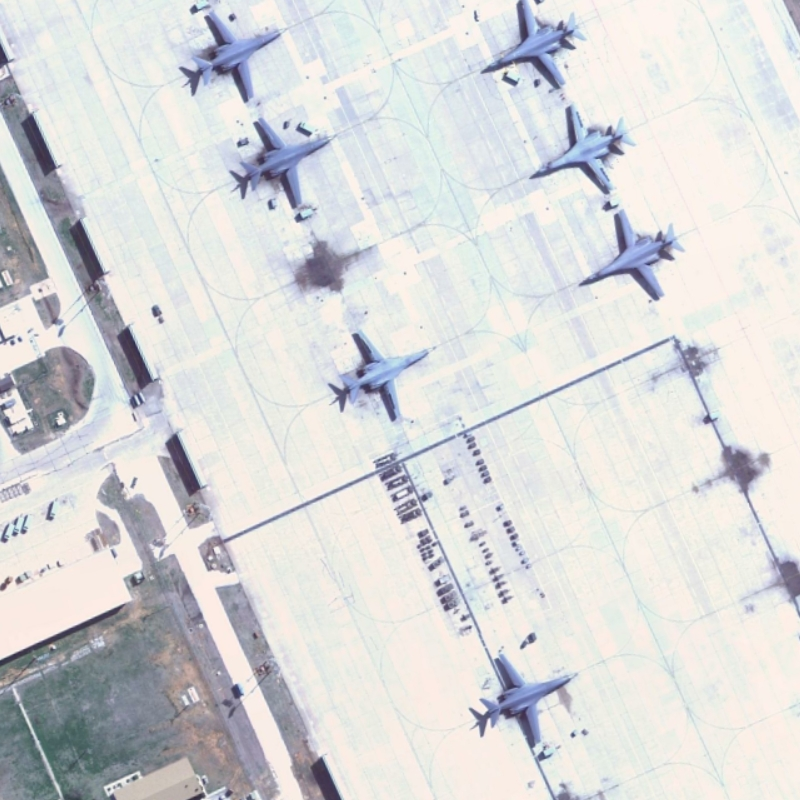A10: (470, 639, 582, 757), (522, 100, 645, 198), (178, 7, 299, 105), (576, 203, 688, 307), (327, 323, 437, 426), (232, 110, 338, 211), (483, 1, 583, 92)
